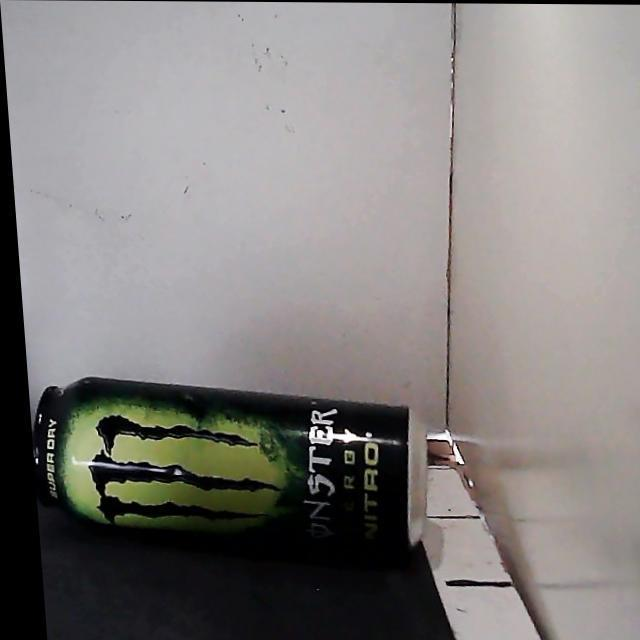metal: (35, 378, 425, 560)
